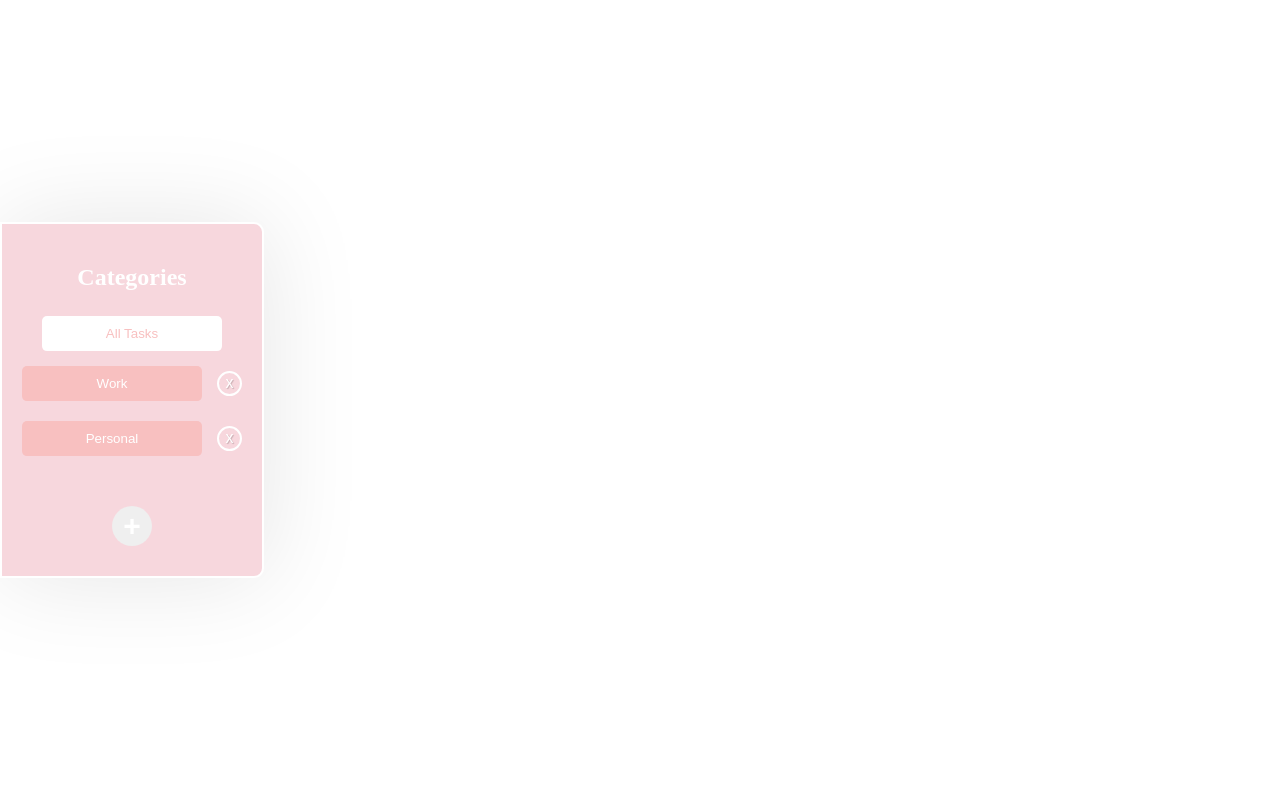
Test: CategorySidenav Component › handles error while adding a category with existing name
The width and height of the screenshot is (1280, 800).
Click the button with test id "add-category-button".
click(132, 526)  # box [112,506,152,546]
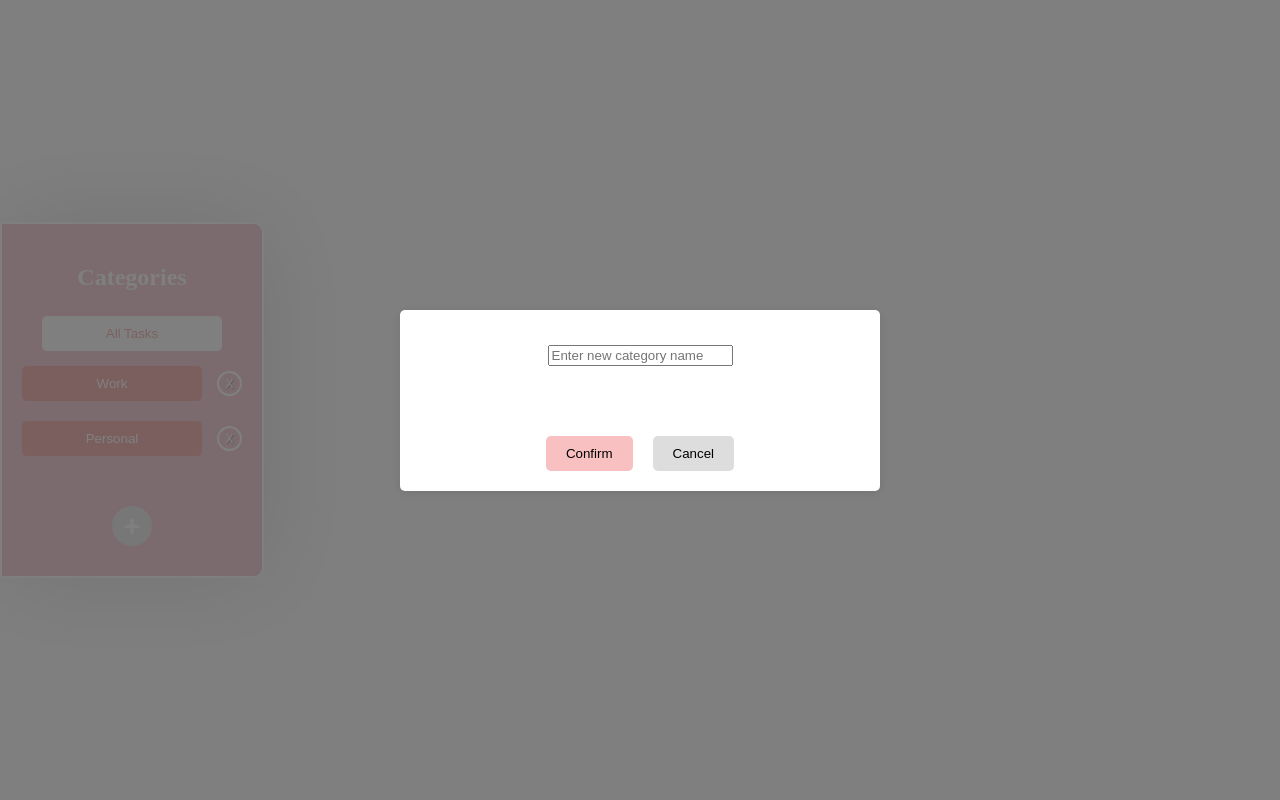
Type "Work" into the field with placeholder "Enter new category name".
click(640, 355); type("Work")  # box [548,344,732,366]
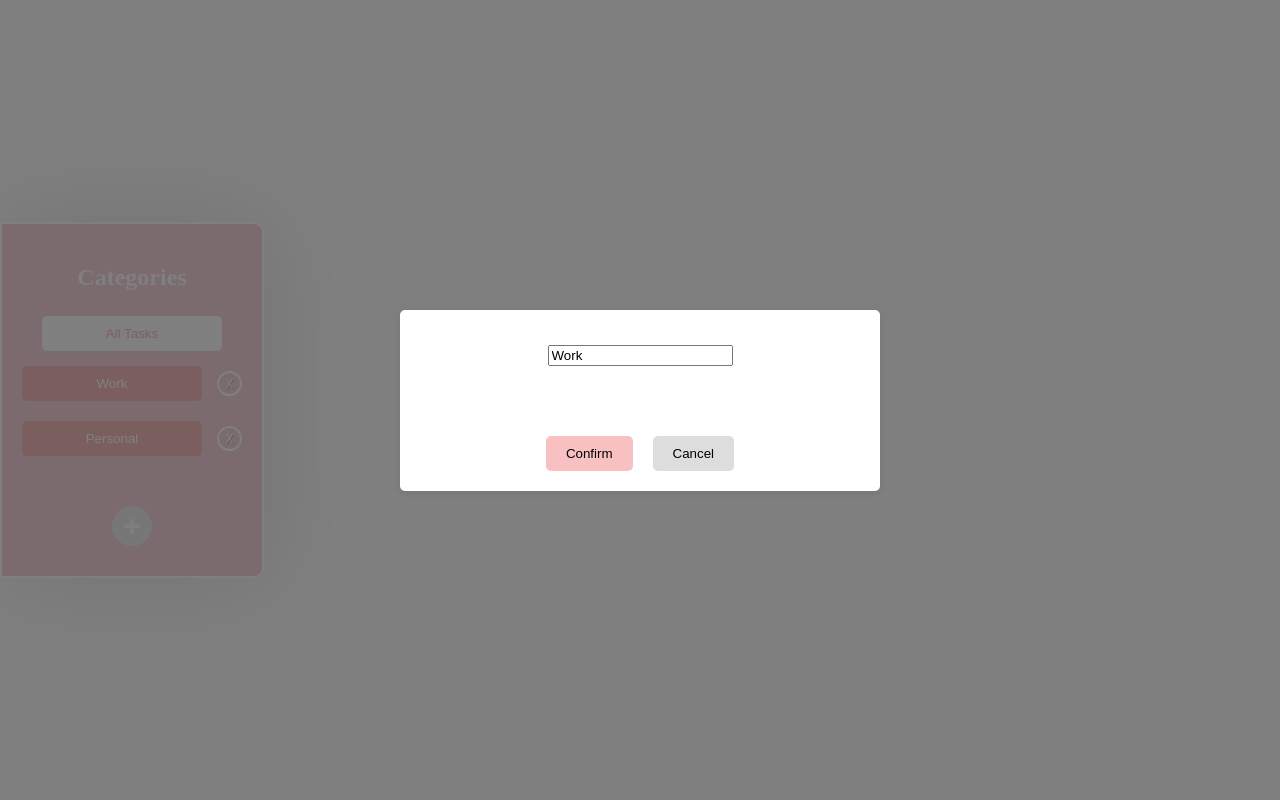
Click the button "Confirm".
click(589, 453)  # box [546,436,633,470]
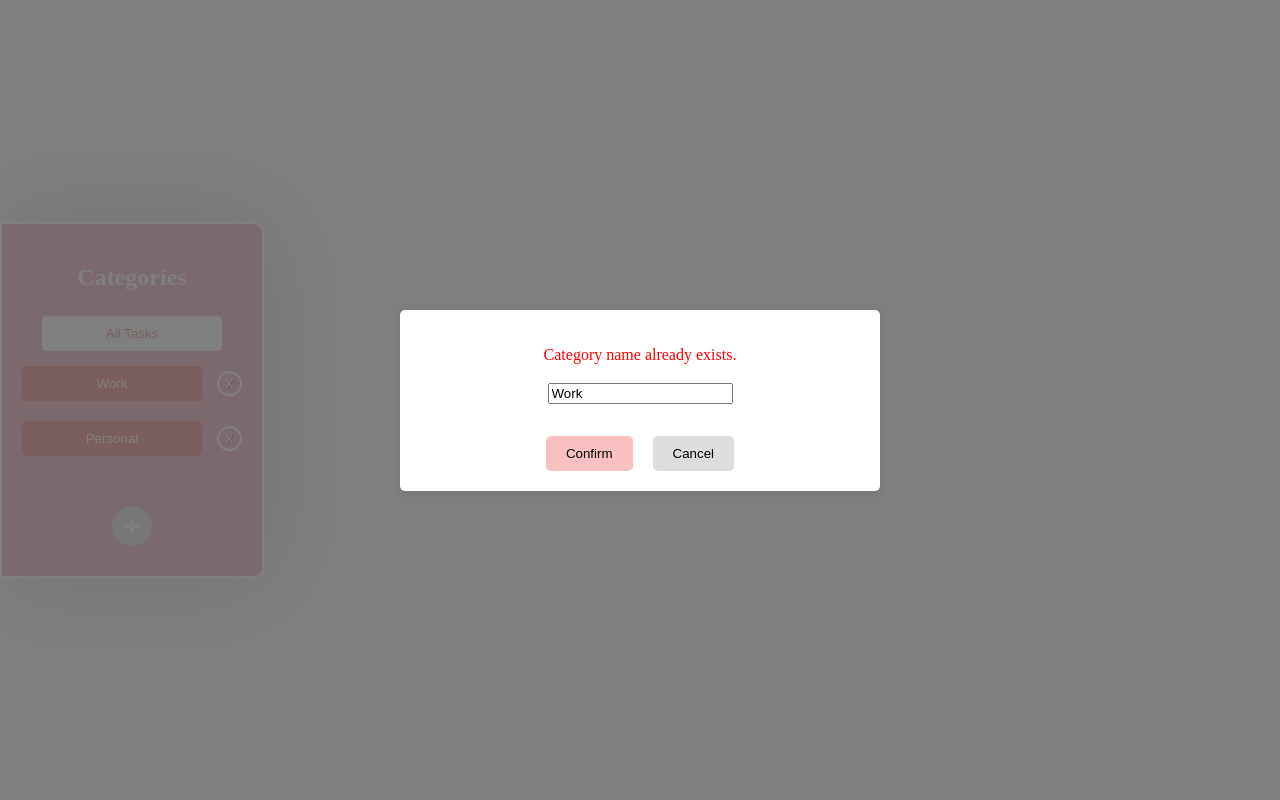
Result: the text "Category name already exists." is shown at [544,346,736,362]
